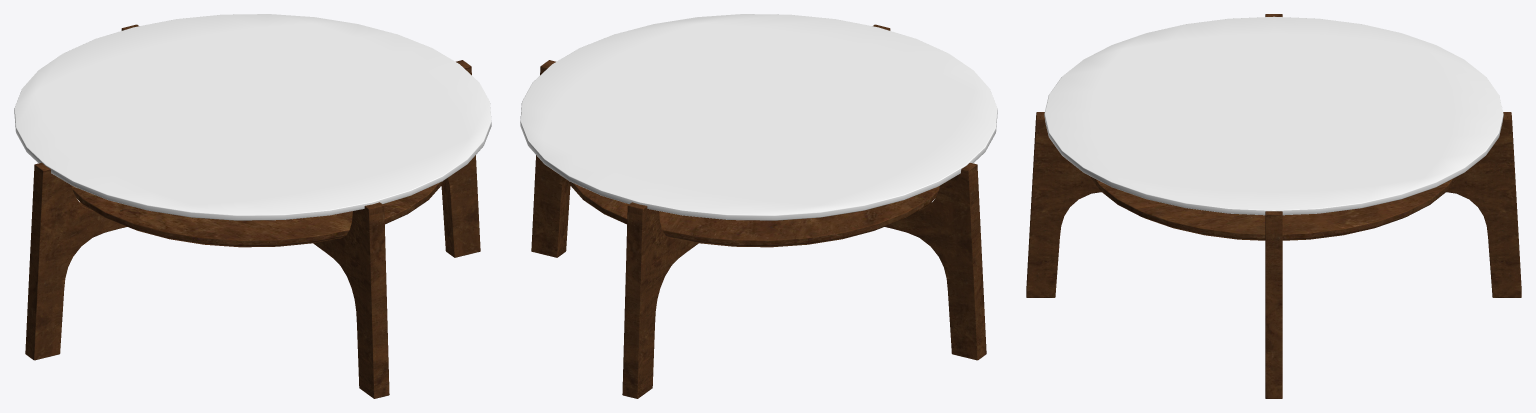
The model's file is table.glb.
3 renders of one model, left to right at view 1: azimuth 30°, elevation 25°; view 2: azimuth 150°, elevation 25°; view 3: azimuth 270°, elevation 25°, orthographic. The views are drawn at different scales.
Visible parts, largest first — view 1: glass, leg_1, under_table, leg_2; view 2: glass, leg_1, under_table, leg_2; view 3: glass, leg_2, under_table, leg_1.
Boxes of the visible parts, x1,y1,x2,y2 form: glass: (14,14,491,220); leg_1: (25,60,480,360); under_table: (72,180,443,247); leg_2: (121,24,389,398); glass: (520,14,997,220); leg_1: (531,60,986,360); under_table: (568,180,939,247); leg_2: (622,24,890,398); glass: (1044,16,1503,215); leg_2: (1026,112,1521,297); under_table: (1090,176,1457,240); leg_1: (1265,14,1282,398).
Size of the model in its own units: 1.03 by 0.4135 by 1.03.
Materials: 2 (1 with a texture image).
